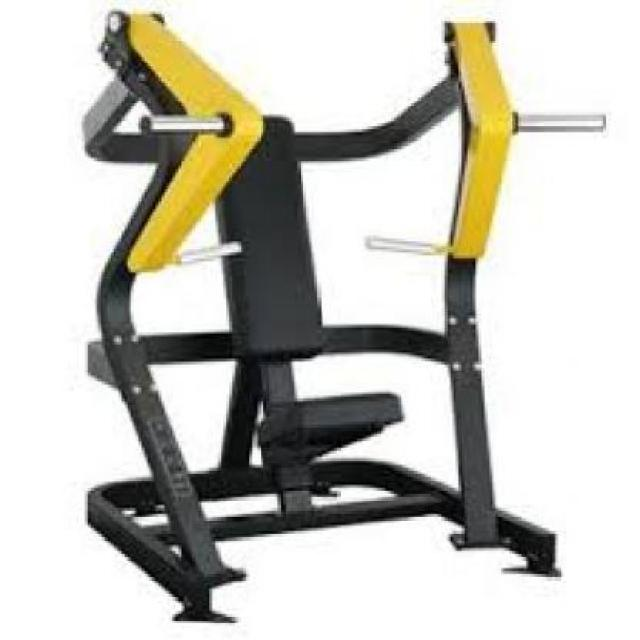Chest Press machine: (77, 3, 611, 640)
